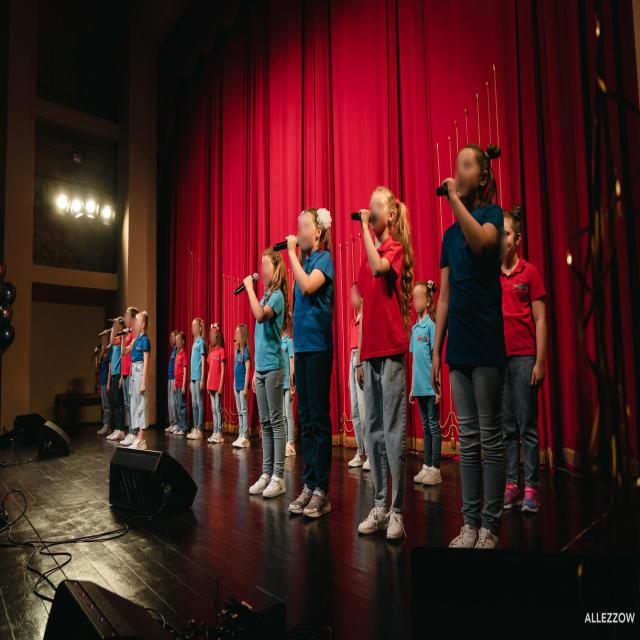Person: (428, 132, 508, 560), (351, 177, 411, 553), (499, 192, 549, 518), (286, 198, 335, 521), (402, 270, 452, 508), (245, 248, 287, 510), (342, 276, 383, 483), (203, 316, 232, 448), (130, 302, 154, 458), (228, 316, 255, 453), (184, 312, 208, 442), (119, 294, 137, 451), (92, 323, 113, 440), (108, 305, 125, 444), (173, 327, 189, 440), (161, 327, 176, 444)
